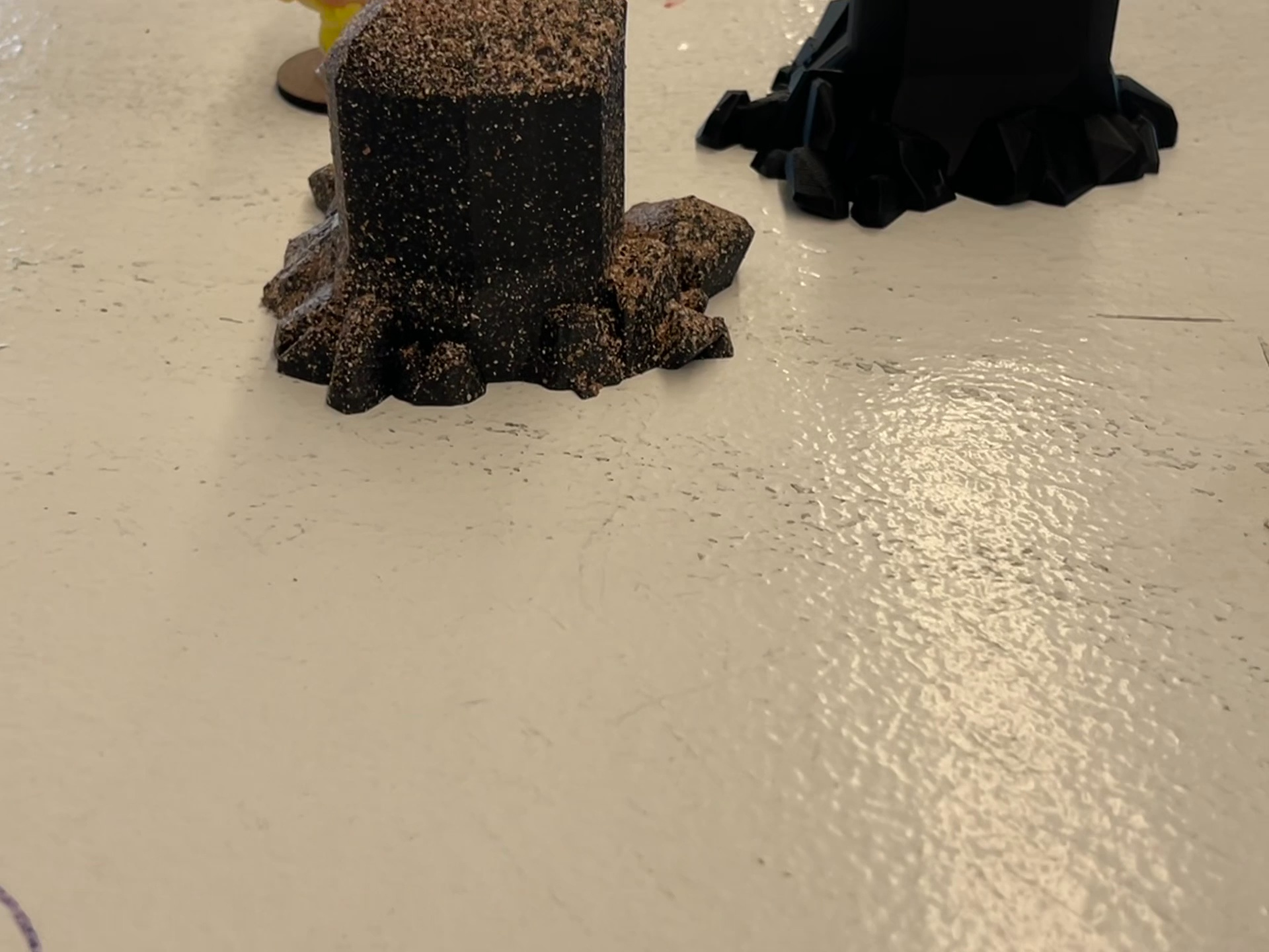teletubby: (278, 0, 369, 58)
